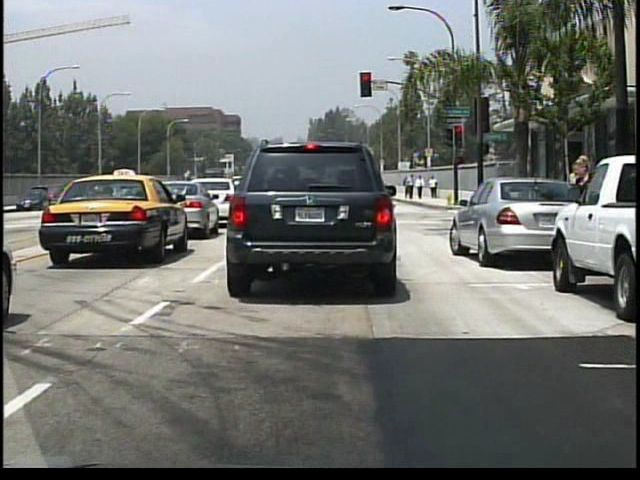person: (569, 154, 602, 266), (564, 163, 588, 227), (429, 175, 440, 201), (406, 174, 416, 200), (416, 175, 424, 201), (404, 176, 412, 200)
